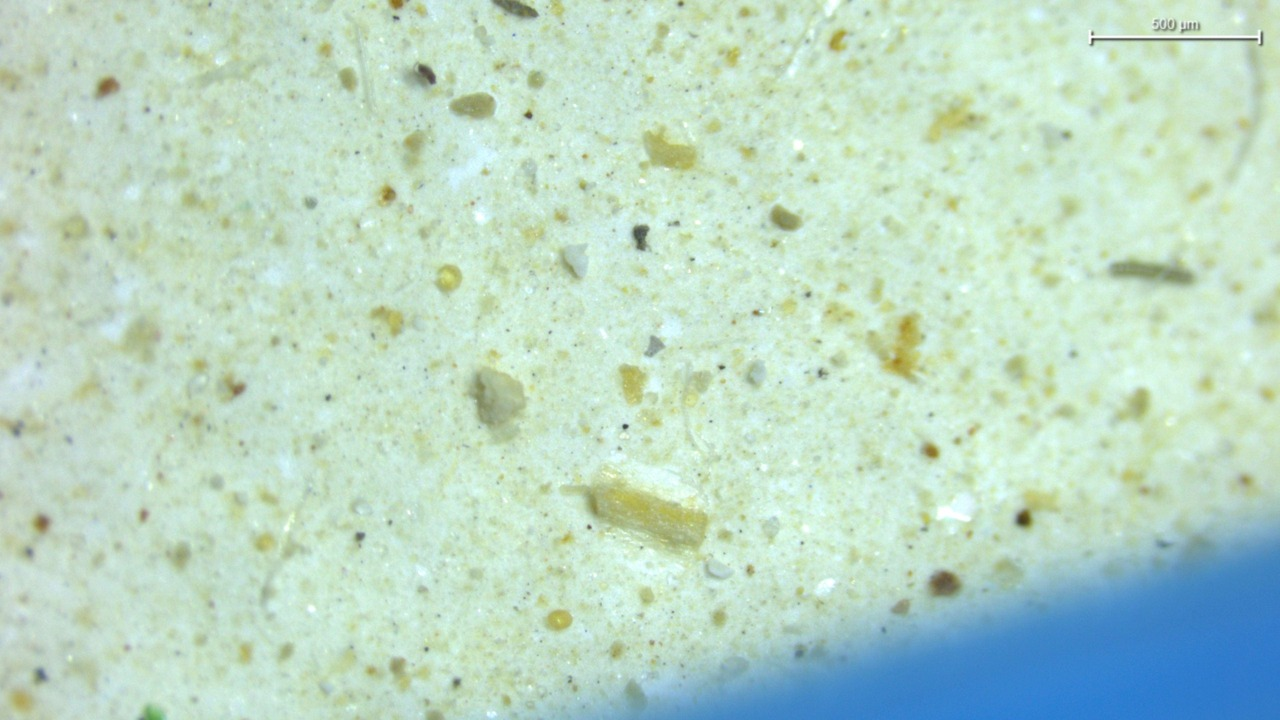microplastic_fragment: (473, 368, 526, 427), (561, 244, 588, 277), (704, 559, 734, 579)
